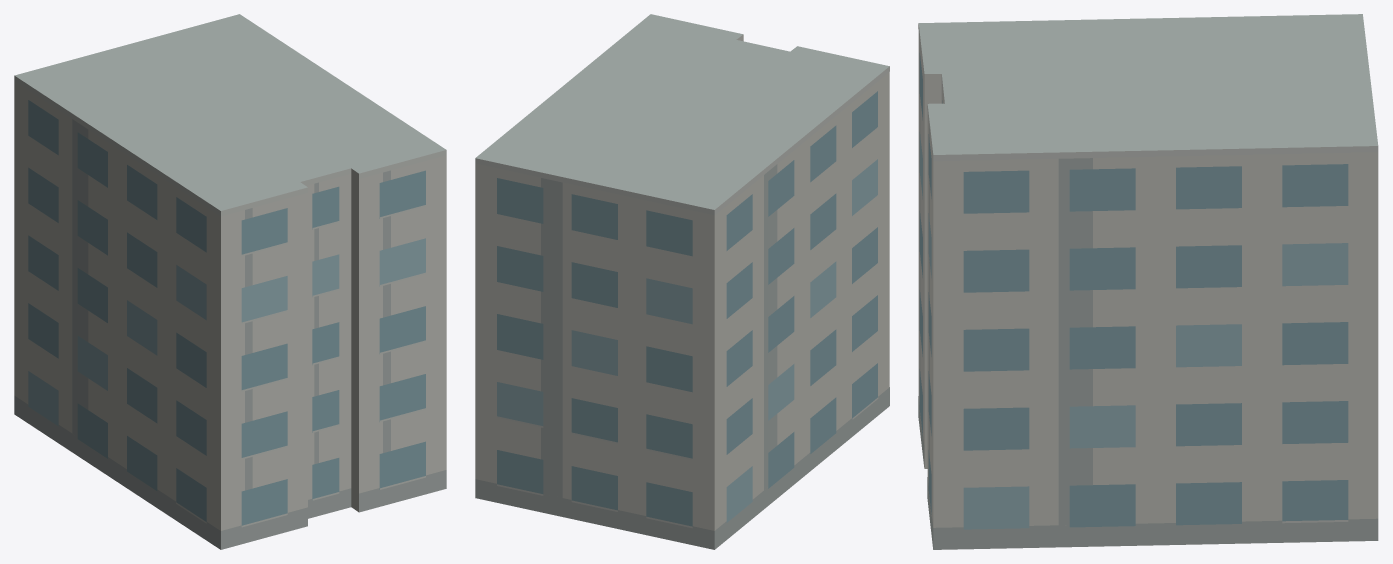
Rendered from survey-upis-32917274.glb.
3 views of the same model, side by side, from view 1: azimuth 30°, elevation 25°; view 2: azimuth 150°, elevation 25°; view 3: azimuth 270°, elevation 25° (orthographic). The views are drawn at different scales.
Parts seen in each view (by area): view 1: survey-upis-32917274.tmp; view 2: survey-upis-32917274.tmp; view 3: survey-upis-32917274.tmp.
Part boxes in pixels (box(x1,y1,x2,y2)): survey-upis-32917274.tmp: box(14, 14, 446, 549); survey-upis-32917274.tmp: box(475, 14, 889, 549); survey-upis-32917274.tmp: box(918, 14, 1378, 549).
Size of the model in its own units: 11.69 by 15.25 by 16.1.
